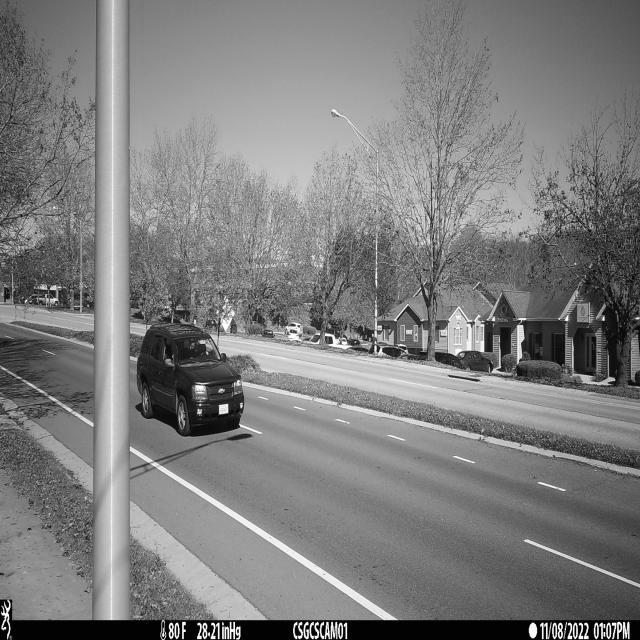SUV: (136, 323, 244, 437)
